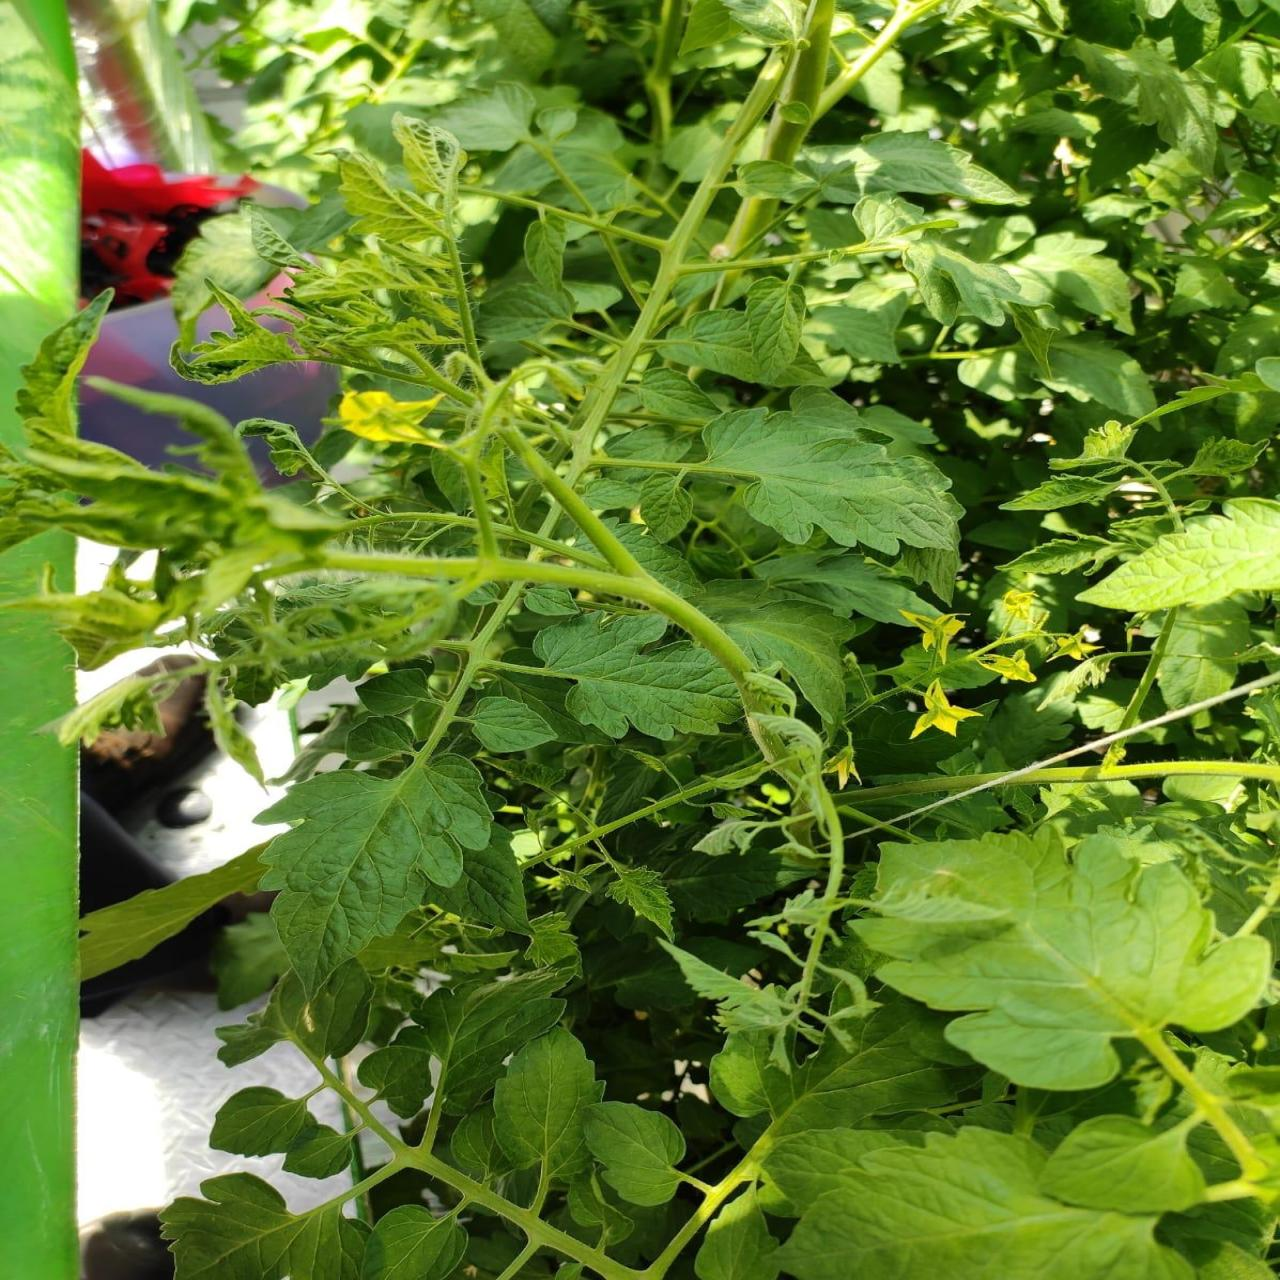T_L_H: (853, 836, 1271, 1091), (264, 760, 485, 985), (703, 409, 960, 554), (536, 614, 740, 741)
T_L_R: (339, 151, 445, 244)
T_S_H: (1, 532, 75, 1280), (1, 1, 79, 445)
